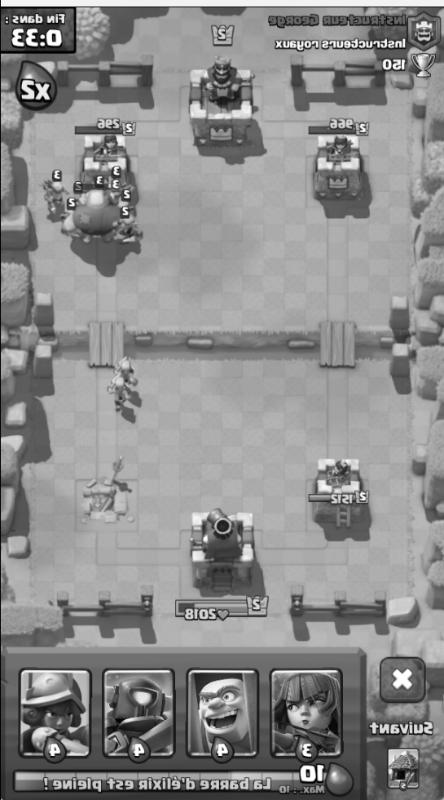geant: (66, 180, 122, 245)
gobelin: (105, 376, 135, 413), (110, 215, 144, 247), (112, 354, 136, 391)
gobelin_lances: (44, 172, 66, 217), (108, 183, 136, 208)
